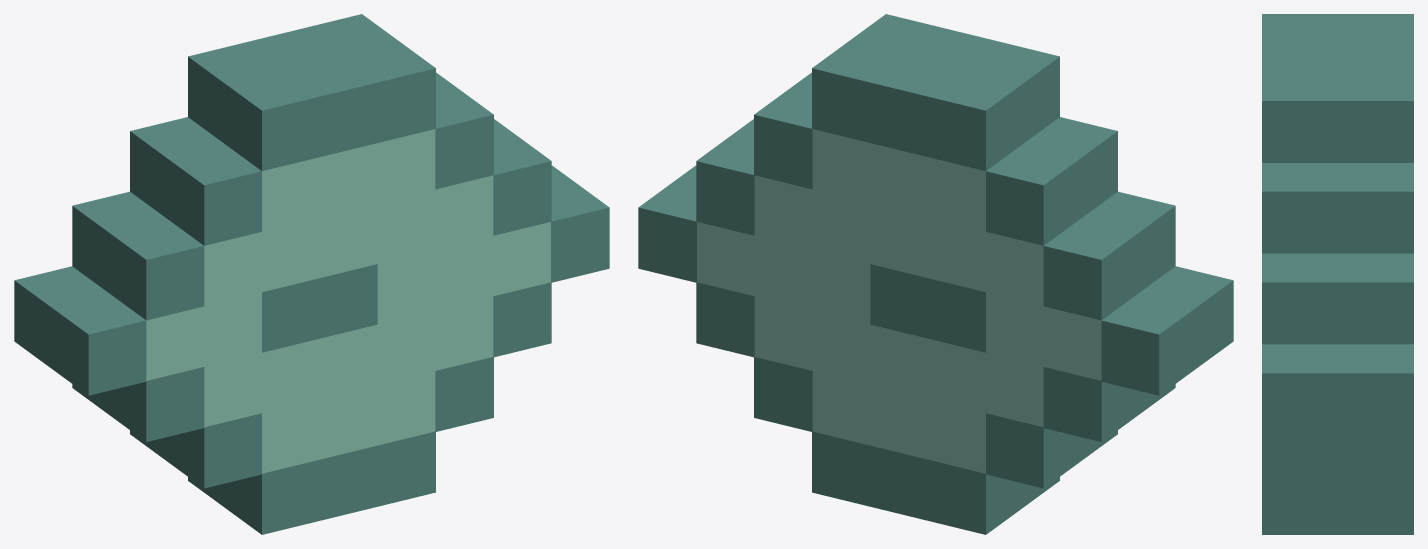
File: item_emerald.glb
3 renders of one model, left to right at view 1: azimuth 30°, elevation 25°; view 2: azimuth 150°, elevation 25°; view 3: azimuth 270°, elevation 25°, orthographic. The views are drawn at different scales.
Parts seen in each view (by area): view 1: item_emerald; view 2: item_emerald; view 3: item_emerald.
Boxes of the visible parts, x1=… form: item_emerald: x1=14, y1=14, x2=609, y2=534; item_emerald: x1=638, y1=14, x2=1233, y2=534; item_emerald: x1=1262, y1=14, x2=1413, y2=534.
Bounding box in the file's own units: 1.62 × 1.26 × 0.4.
